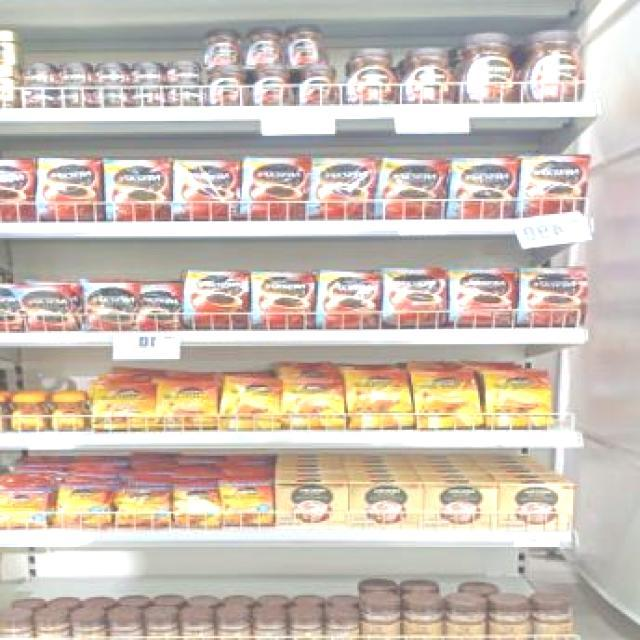Coffee: (522, 31, 582, 103), (517, 156, 586, 218), (450, 158, 516, 220), (460, 34, 518, 104), (377, 161, 447, 219), (310, 160, 376, 220), (242, 160, 308, 220), (172, 160, 238, 220), (412, 372, 480, 430), (105, 160, 170, 220), (450, 269, 518, 326), (36, 160, 100, 220), (486, 370, 550, 428), (520, 268, 585, 325), (349, 371, 412, 429), (382, 269, 446, 326), (184, 273, 249, 328), (250, 274, 316, 328), (316, 274, 382, 328), (342, 47, 398, 106), (402, 48, 456, 104), (221, 380, 281, 428), (91, 385, 155, 430), (285, 381, 346, 428), (156, 383, 217, 428), (82, 283, 138, 331), (18, 288, 79, 332), (223, 483, 274, 527), (137, 284, 183, 330), (0, 159, 34, 221), (57, 488, 112, 526), (116, 488, 170, 526), (174, 485, 220, 527), (0, 487, 49, 526), (295, 64, 339, 104), (208, 66, 252, 106), (242, 26, 286, 65), (284, 24, 326, 64), (251, 65, 292, 104), (201, 28, 242, 65), (9, 396, 49, 430), (50, 394, 86, 430), (0, 286, 23, 331), (166, 80, 202, 106), (91, 83, 129, 107), (131, 83, 167, 107), (18, 83, 52, 107), (56, 83, 90, 107), (58, 62, 92, 85), (94, 62, 130, 83), (19, 64, 55, 85), (165, 60, 200, 81), (0, 63, 17, 106), (130, 62, 164, 83), (0, 31, 21, 65)
